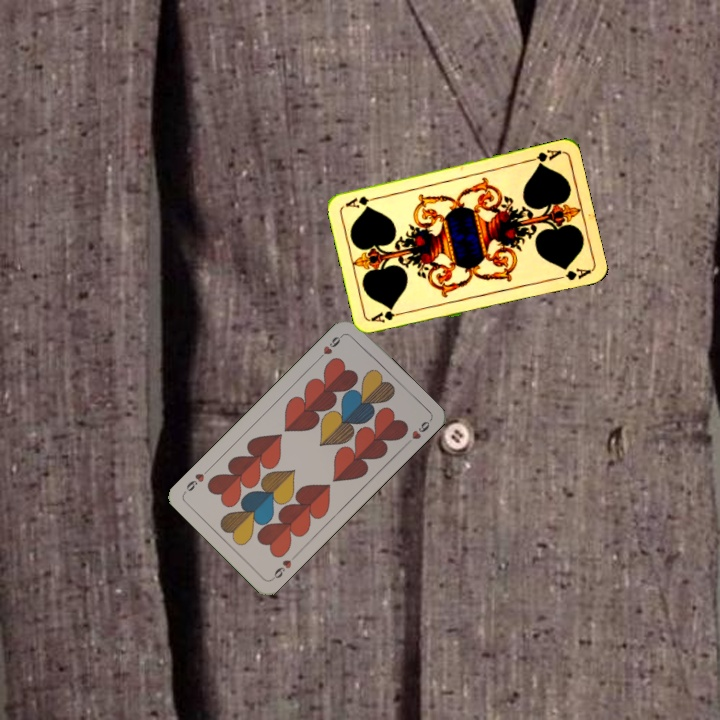GA: (524, 145, 564, 168), (367, 307, 408, 325)
H9: (267, 550, 299, 583), (313, 330, 346, 362)
